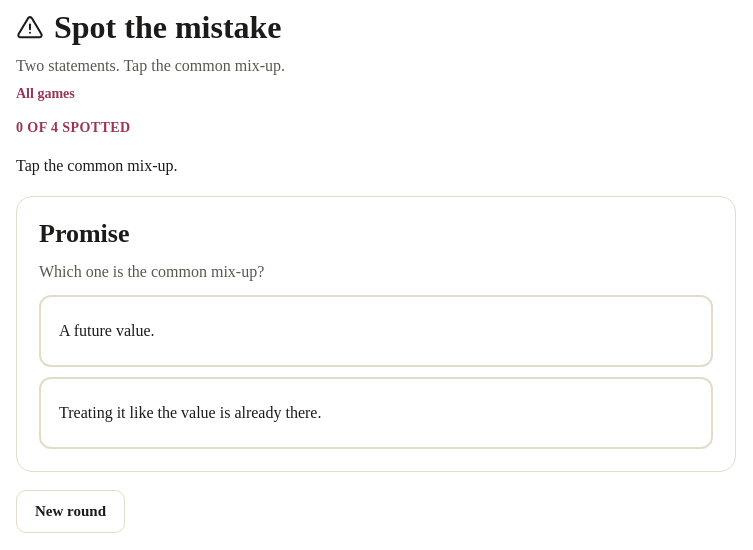
Scenario: SpotPage › spots the common mix-up and lets a miss be tried again
The image size is (753, 550).
Click the button "A future value.". click: (107, 331)
box: [39,295,713,367]
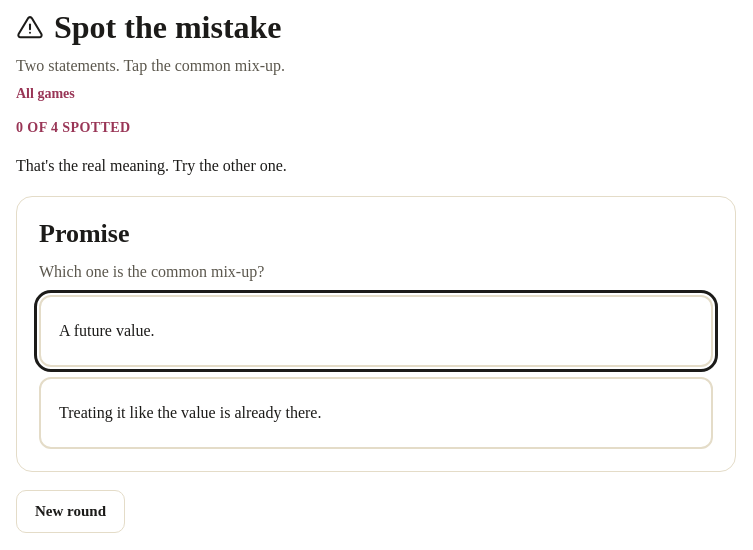
Expected: the text "That's the real meaning. Try the other one." is shown, [16,157,287,174]
Click the button "Treating it like the value is already there.". click: (190, 413)
box: [39,377,713,449]
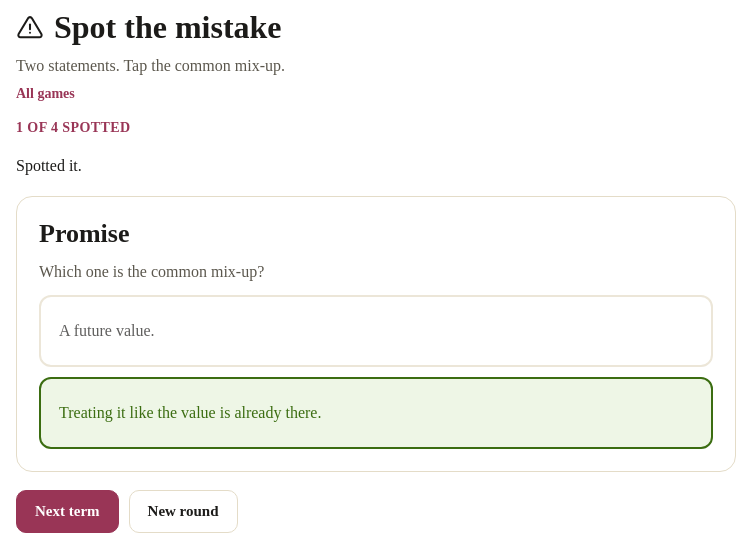
Expected: the text "Spotted it." is shown, [16,157,82,174]
Expected: the text "1 of 4 spotted" is shown, [16,120,131,135]
